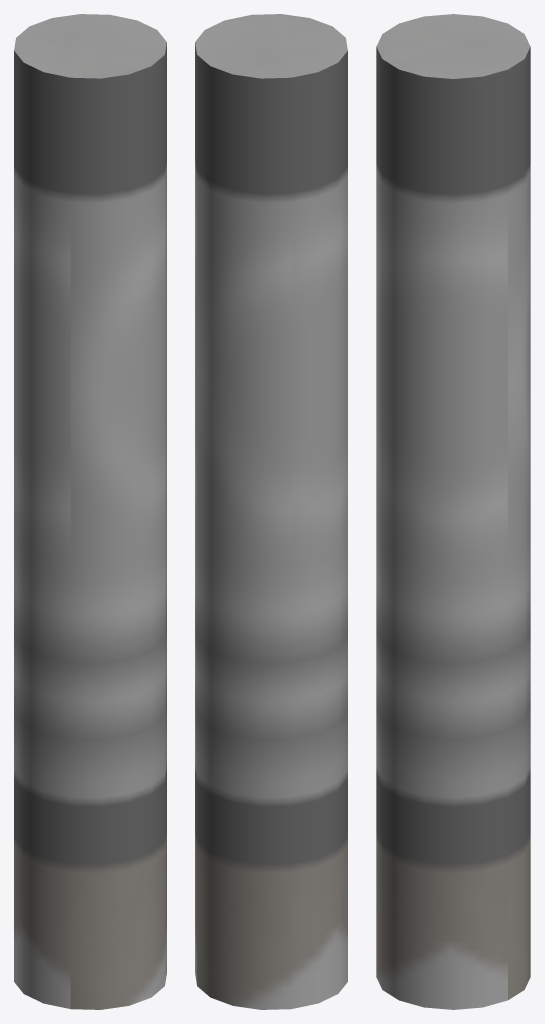
Rendered from Eridani_Antenna_4_Arm2.obj.
3 renders of one model, left to right at view 1: azimuth 30°, elevation 25°; view 2: azimuth 150°, elevation 25°; view 3: azimuth 270°, elevation 25°, orthographic.
Parts seen in each view (by area): view 1: Eridani_Antenna_4_Arm2; view 2: Eridani_Antenna_4_Arm2; view 3: Eridani_Antenna_4_Arm2.
Boxes of the visible parts, box(x1,y1,x2,y2) form: Eridani_Antenna_4_Arm2: box(14, 14, 166, 1009); Eridani_Antenna_4_Arm2: box(195, 14, 347, 1009); Eridani_Antenna_4_Arm2: box(376, 14, 530, 1009).
Bounding box in the file's own units: 0.15 × 1 × 0.15.
